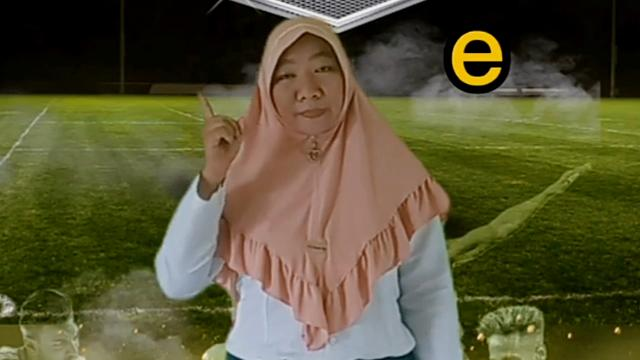D: (196, 91, 248, 175)
